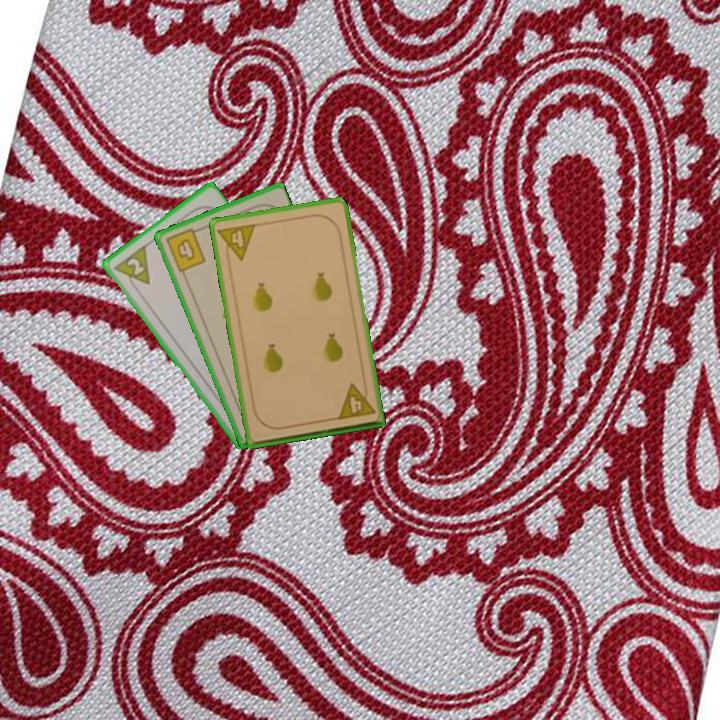2p: (110, 242, 153, 295)
4b: (162, 224, 209, 275)
4p: (214, 220, 259, 265), (333, 379, 378, 423)
